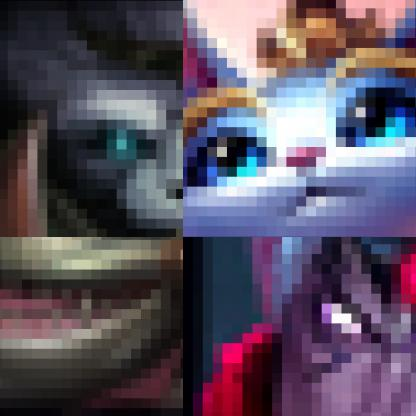Rengar: (0, 0, 182, 236)
Tahm Kench: (0, 237, 182, 415)
Varus: (183, 237, 415, 415)
Yuumi: (183, 0, 415, 236)
